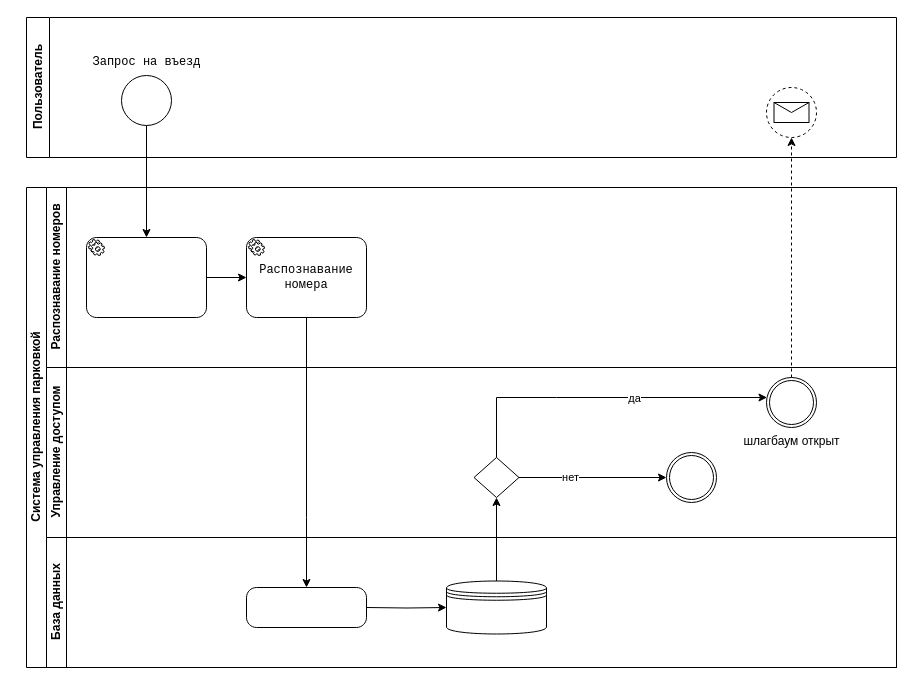
This 914x685 diagram has some shape labels left out. The shapes that lost their labels are listed below. From the top down, each one's centre as x and y in pixels, then its label:
At point 146,277: "Захват изображения".
At point 496,477: "Номер найден в базе данных?".
At point 691,477: "доступ ограничен".
At point 306,607: "Проверка номера в базе данных".
